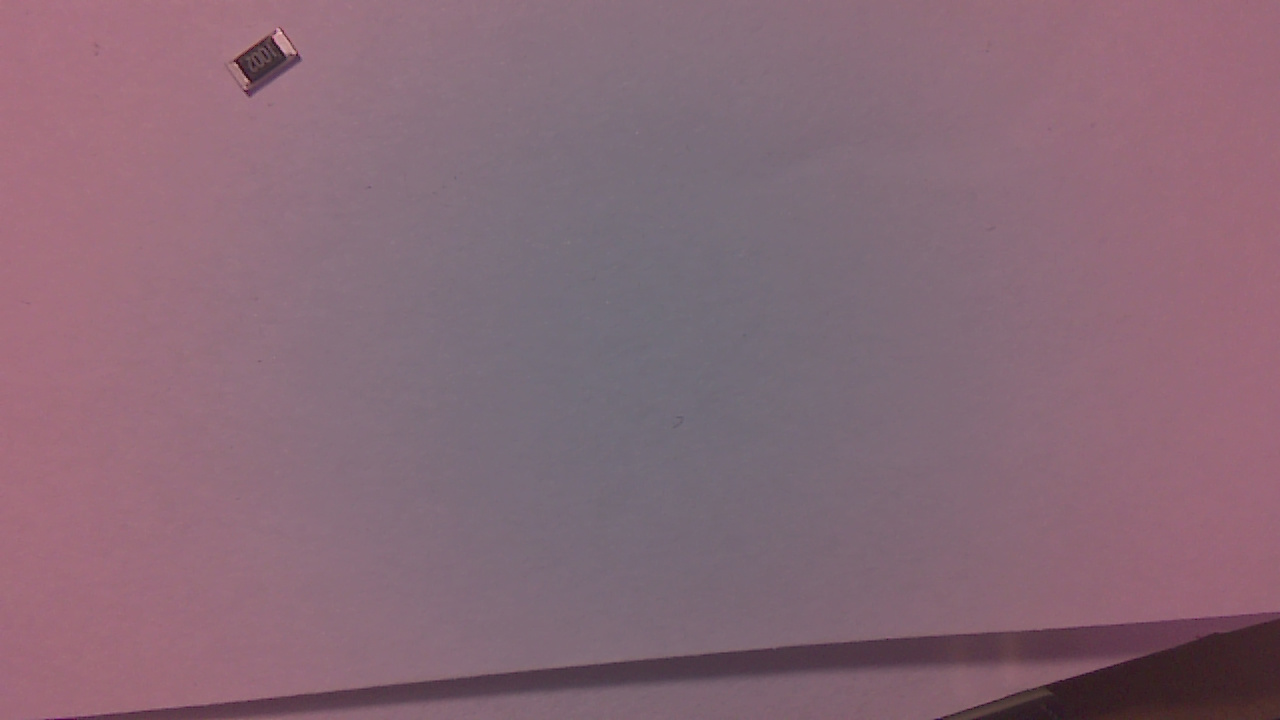Resistor: (232, 31, 307, 100)
